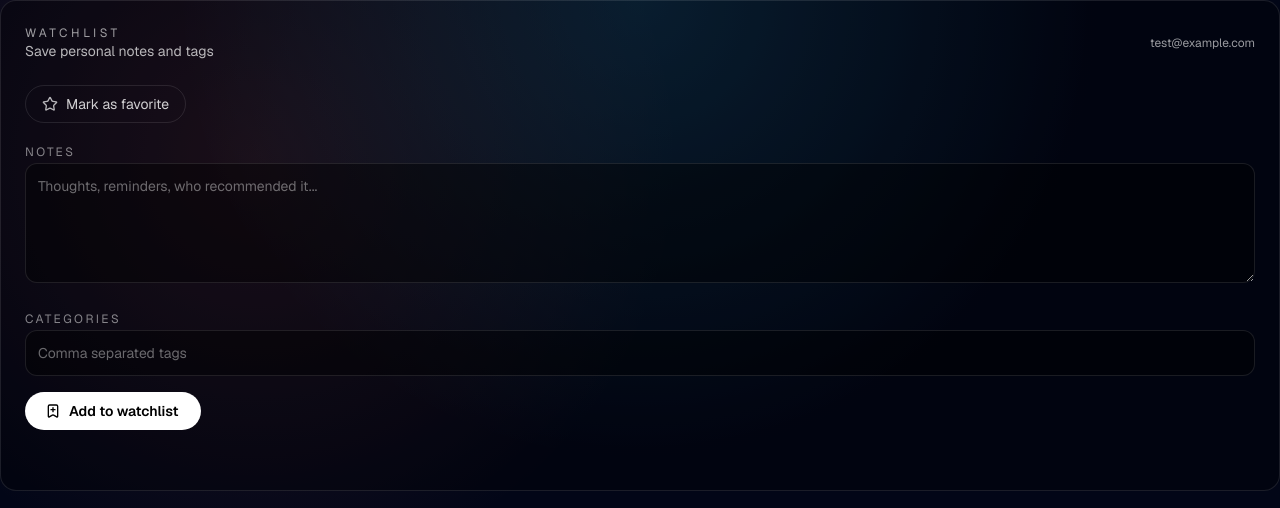
WatchlistPanel › favorite toggle › should show pending feedback when favoriting before save
This screenshot has width=1280, height=508.
Click the button "Mark as favorite": (106, 104) 25,85 -> 186,123
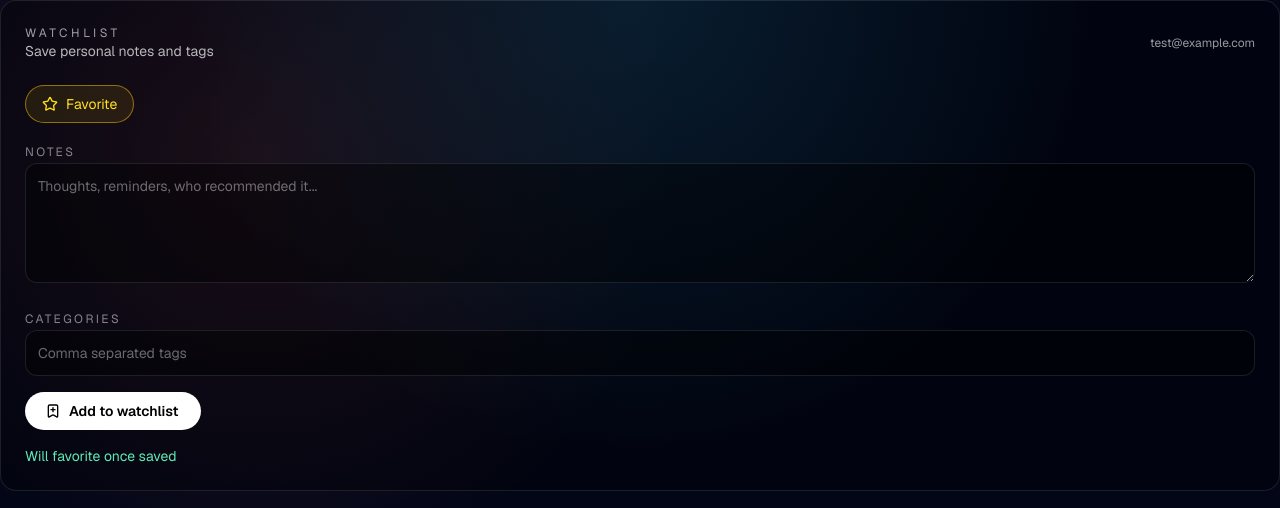
Check: the text "Will favorite once saved" is shown, box 25,447 -> 176,465
